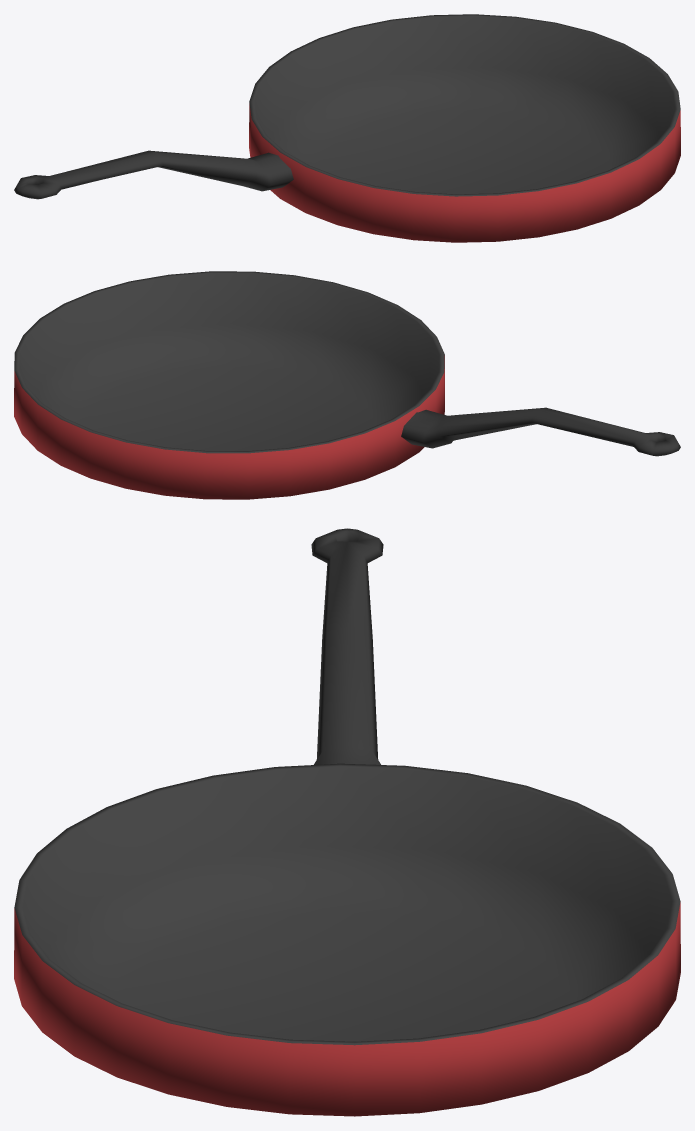
Rendered from Frying_pan.fbx.
3 renders of one model, top to bottom at view 1: azimuth 30°, elevation 25°; view 2: azimuth 150°, elevation 25°; view 3: azimuth 270°, elevation 25°, orthographic. The views are drawn at different scales.
Parts seen in each view (by area): view 1: Frying pan; view 2: Frying pan; view 3: Frying pan.
Boxes of the visible parts, x1=… form: Frying pan: x1=14, y1=14, x2=680, y2=242; Frying pan: x1=14, y1=271, x2=680, y2=499; Frying pan: x1=14, y1=528, x2=680, y2=1116.
Size of the model in its own units: 13.12 by 7.72 by 2.19.
